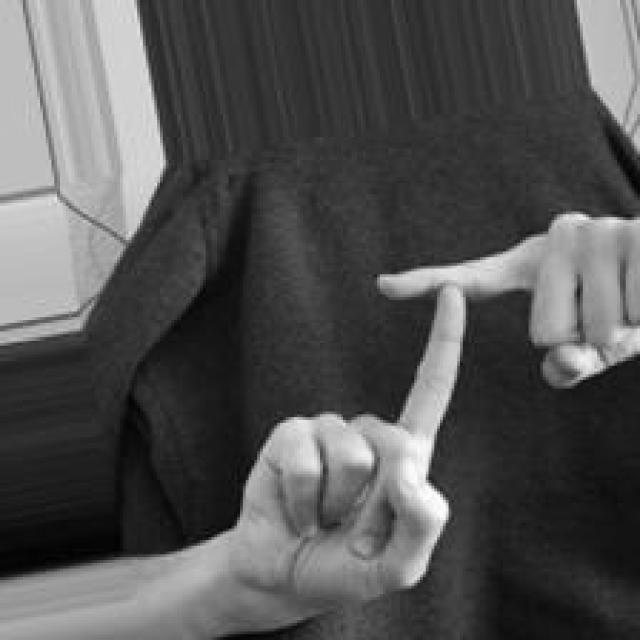T: (228, 208, 640, 640)
